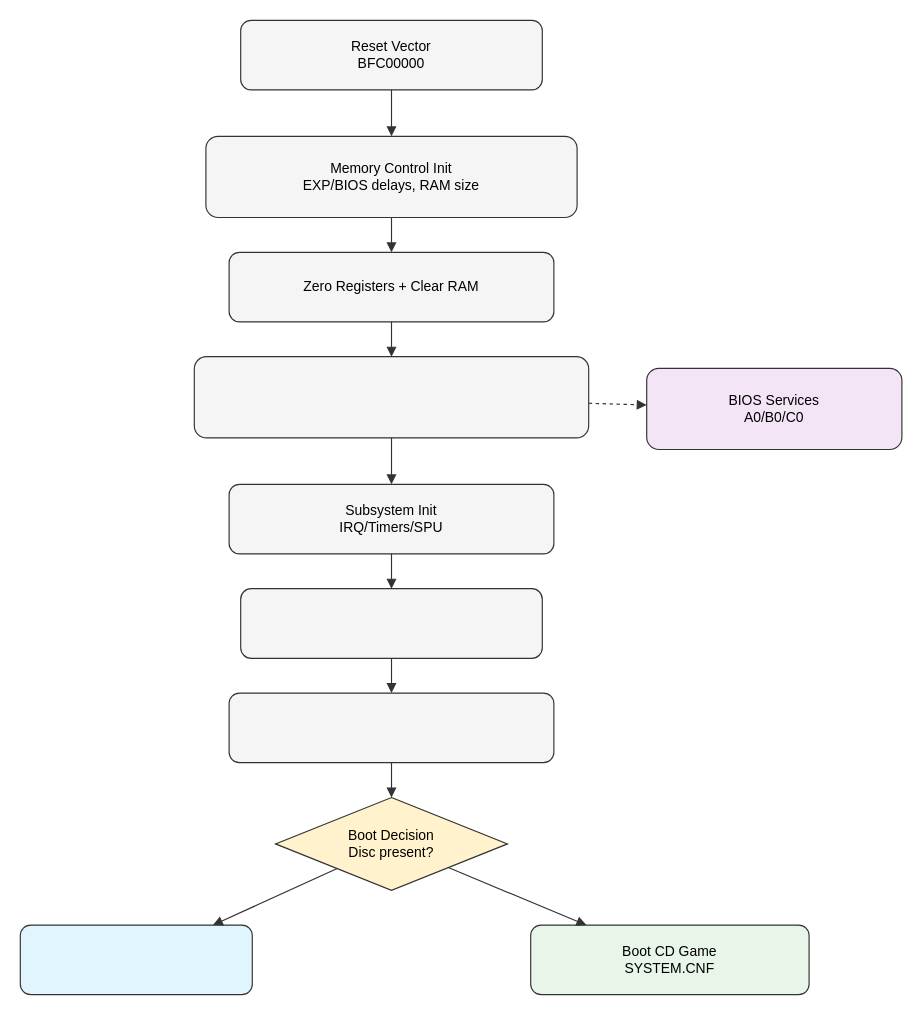
The diagram is 922 pixels wide and 1015 high, and some of its shapes have lost their labels. Here are the shapes that lost their labels. From the top down, the box of each, then its label:
(193, 356, 589, 438): Kernel + Exception Setup Vectors, tables, relocated code
(240, 588, 542, 658): GPU Init GP0/GP1 setup
(228, 692, 554, 763): CDROM + SIO Drivers
(19, 924, 252, 995): BIOS Menu
